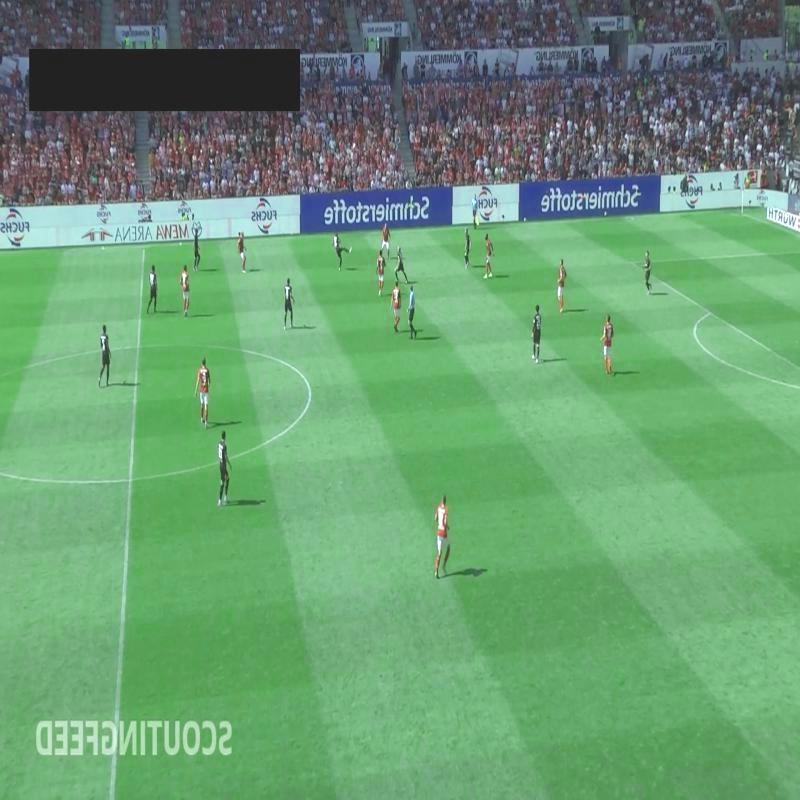1: (735, 206, 749, 220)
10: (703, 306, 717, 320)
13: (137, 240, 151, 254)
14: (130, 340, 144, 354)
15: (121, 471, 139, 489)
9: (625, 257, 638, 270)
c: (303, 380, 316, 394)
